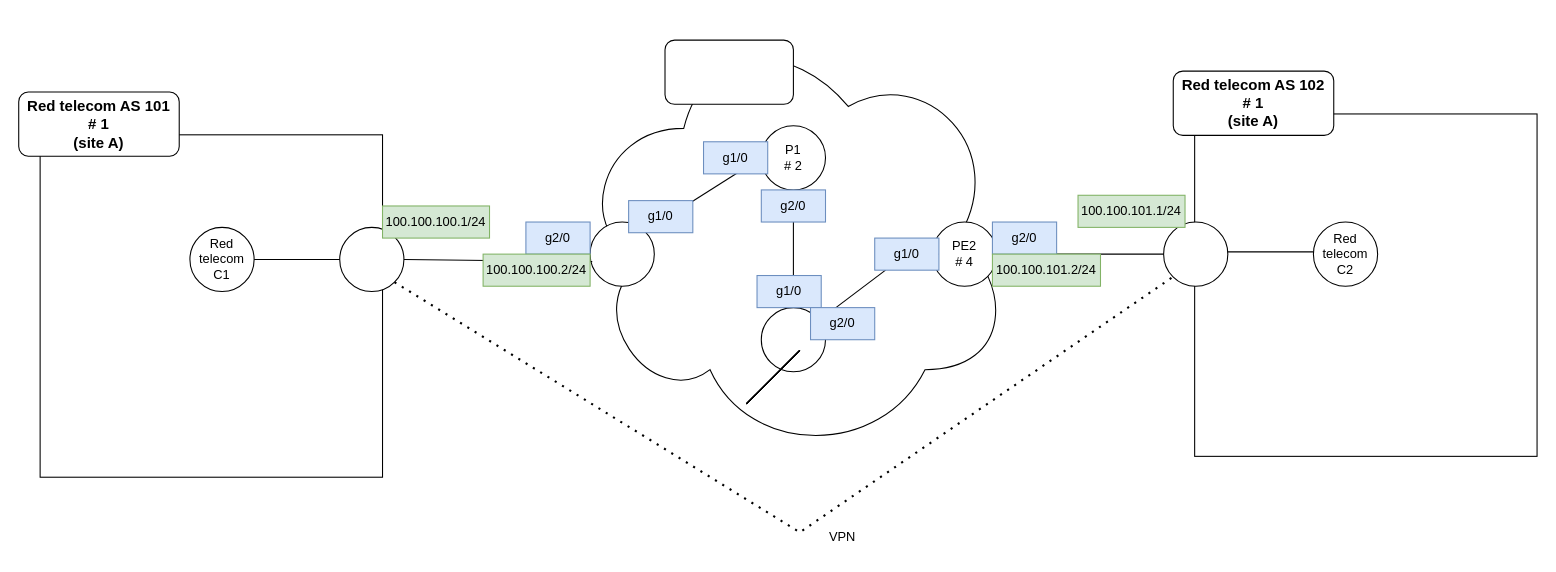
Some shapes in this 1556 by 572 pixel diagram are drawn without their labels. The box of each missing label's shape, as (x1, y1, x2, y2) in pixels:
ASP Backbone: (664, 39, 793, 104)
P2 # 3: (760, 307, 826, 372)
PE1 # 1: (589, 221, 654, 286)
Red telecom CE1 # 1: (339, 226, 404, 292)
Red telecom CE2 # 2: (1163, 221, 1228, 286)
